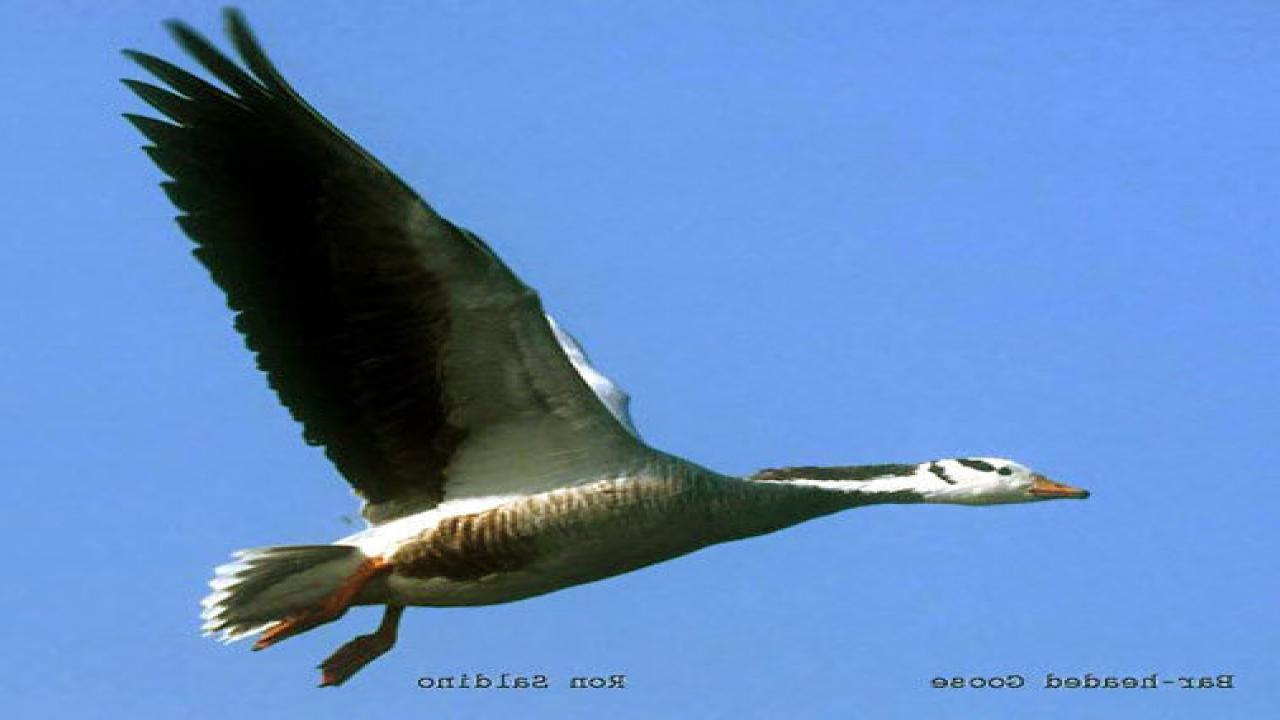Bird: (96, 0, 1112, 694)
